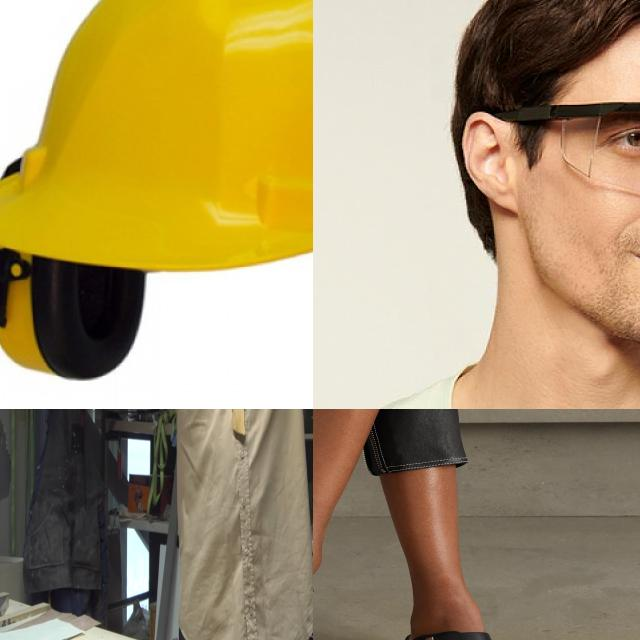Ear-protection: (0, 236, 144, 383)
No_Ear-Protection: (452, 108, 524, 222)
Sandals: (382, 606, 546, 640)
face_nomask: (512, 188, 640, 345)
glasses: (495, 102, 640, 196)
head_helmet: (0, 0, 313, 276)
head_nohelmet: (451, 0, 640, 254)
